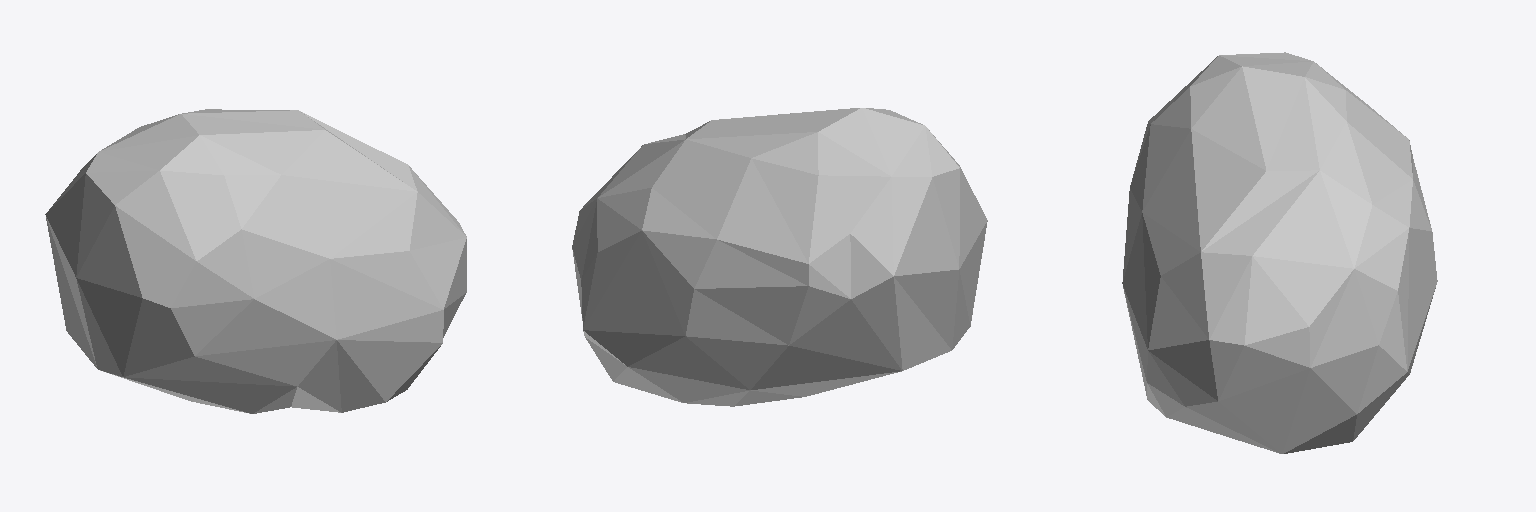
Rendered from C3_Stone1.obj.
The picture shows the model from 3 angles: view 1: azimuth 30°, elevation 25°; view 2: azimuth 150°, elevation 25°; view 3: azimuth 270°, elevation 25°; orthographic projection.
Visible parts, largest first — view 1: Куб.004; view 2: Куб.004; view 3: Куб.004.
Part boxes in pixels (bbox=[...]): Куб.004: bbox=[45, 109, 466, 413]; Куб.004: bbox=[572, 108, 987, 406]; Куб.004: bbox=[1122, 52, 1437, 453].
Bounding box in the file's own units: 5.09 × 4.01 × 3.75.